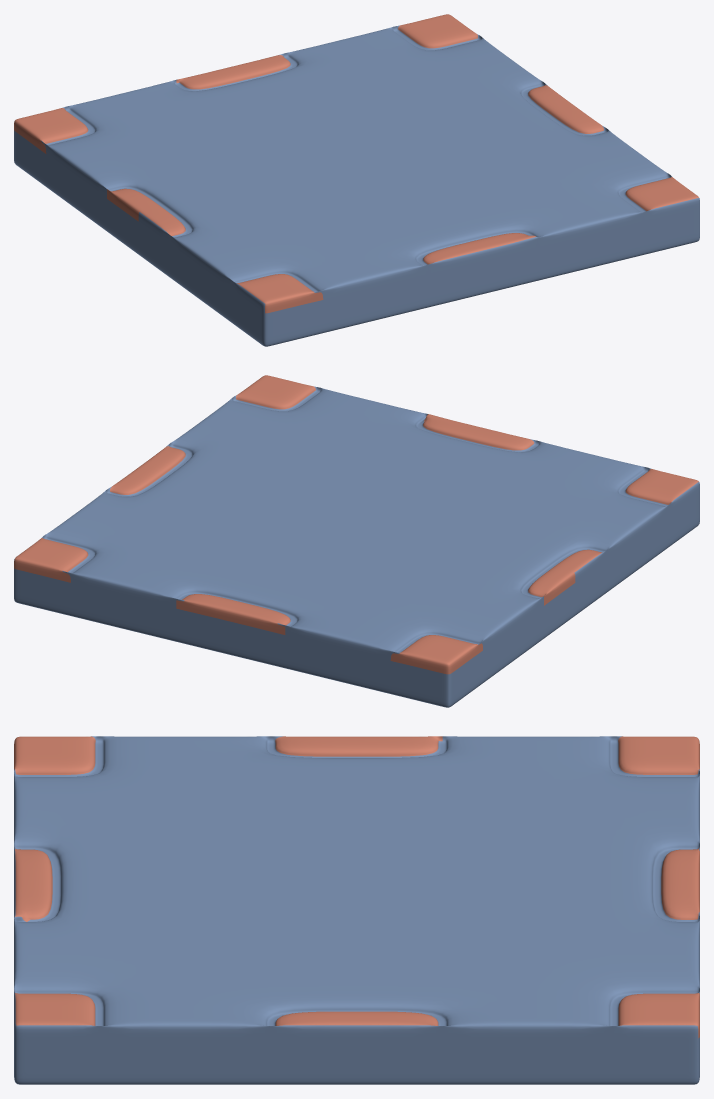
File: blue_mazefloor.fbx
3 renders of one model, top to bottom at view 1: azimuth 30°, elevation 25°; view 2: azimuth 150°, elevation 25°; view 3: azimuth 270°, elevation 25°, orthographic. The views are drawn at different scales.
Visible parts, largest first — view 1: bluemat; view 2: bluemat; view 3: bluemat.
Boxes of the visible parts, x1,y1,x2,y2 form: bluemat: (14,14,699,346); bluemat: (14,375,699,707); bluemat: (14,736,699,1084).
Bounding box in the file's own units: 10 × 1 × 10.
